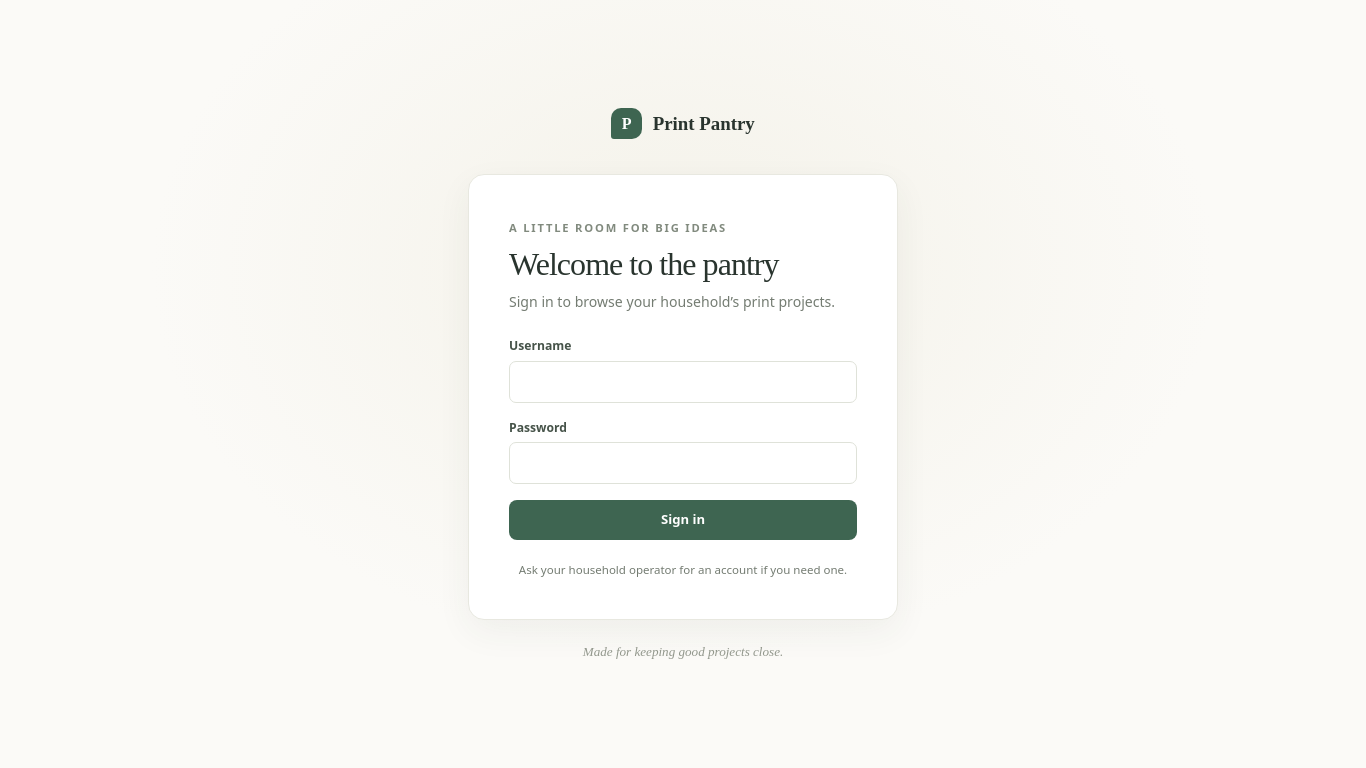
Test: offers library management to operators and routes there without loading the catalog
Check: the heading "Welcome to the pantry" is shown, box [509,246,779,282]
In the field labelled "Username": [683, 382] box [509,361,857,403], type "maker"
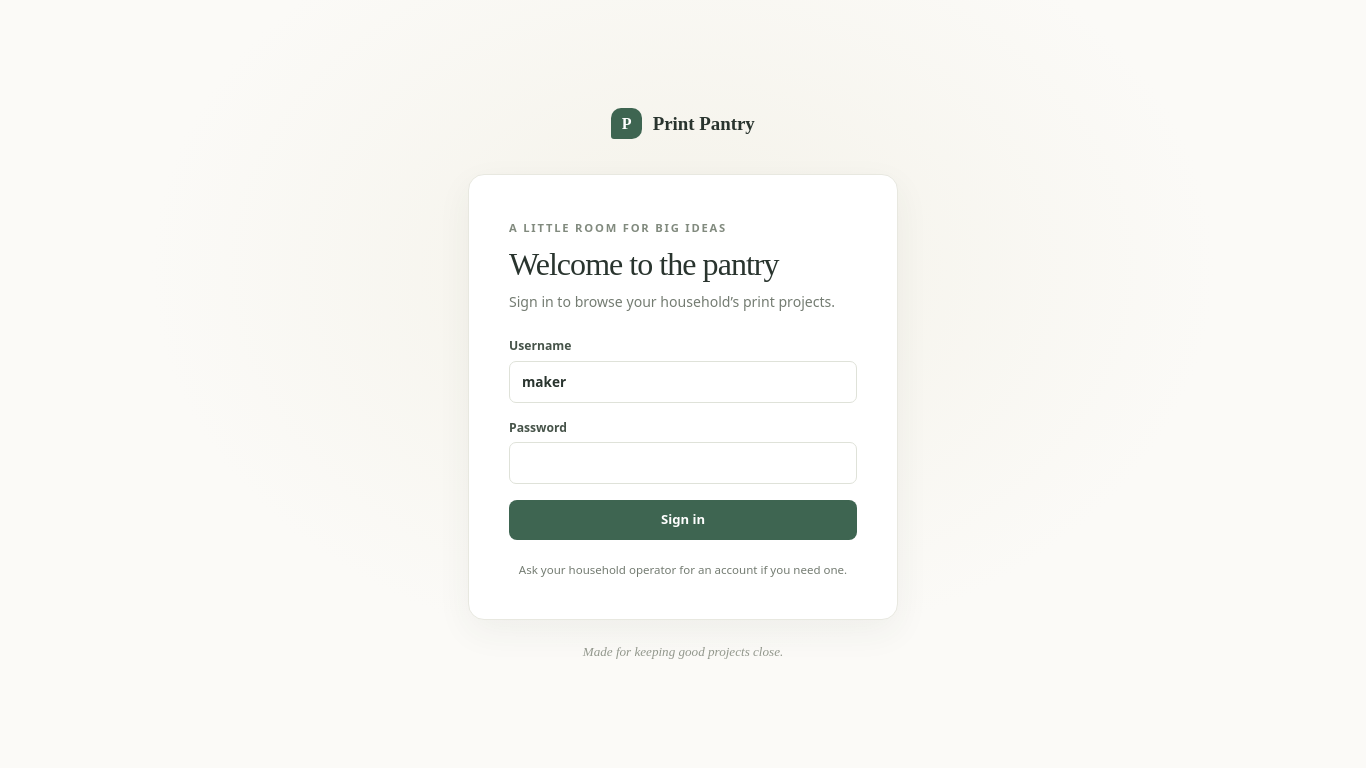
In the password field labelled "Password": [683, 463] box [509,442,857,484], type "pantry-pass"
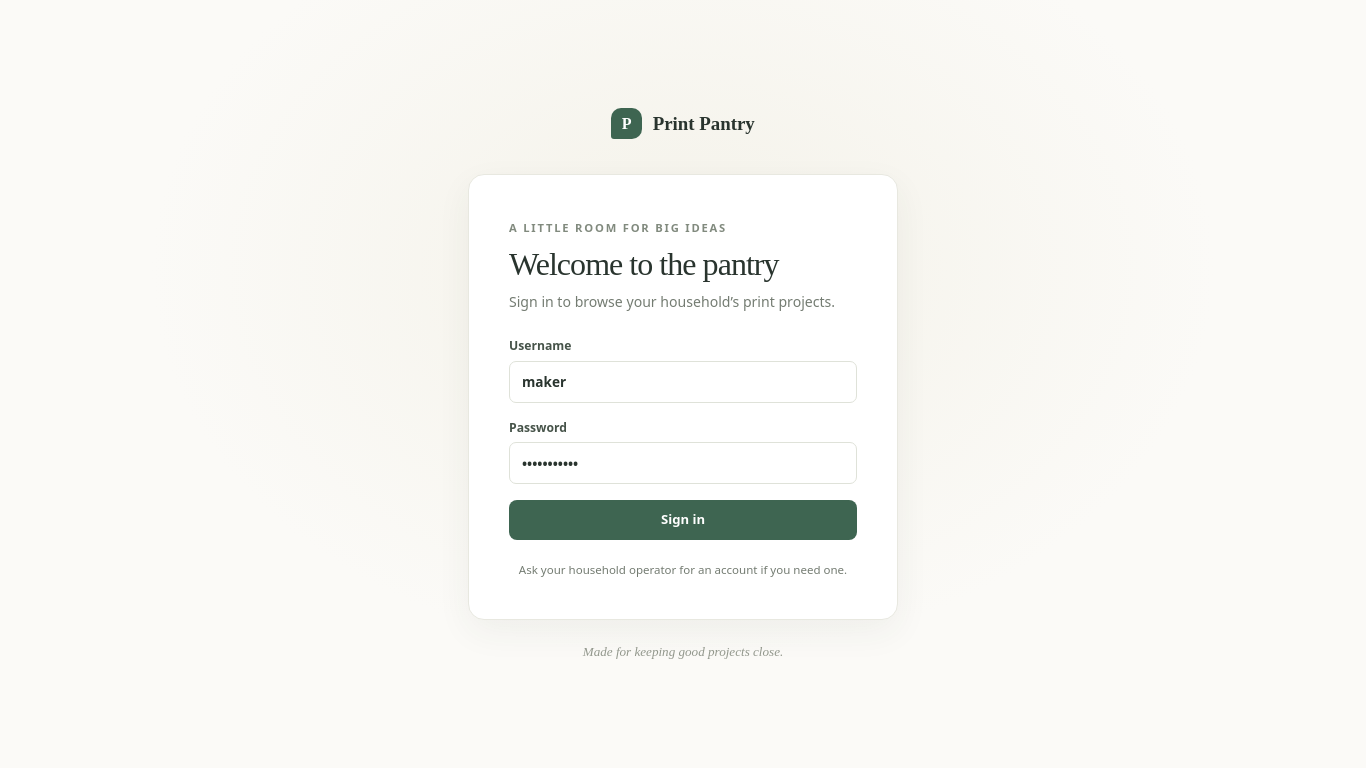
Click the button "Sign in": [683, 520] box [509,500,857,540]
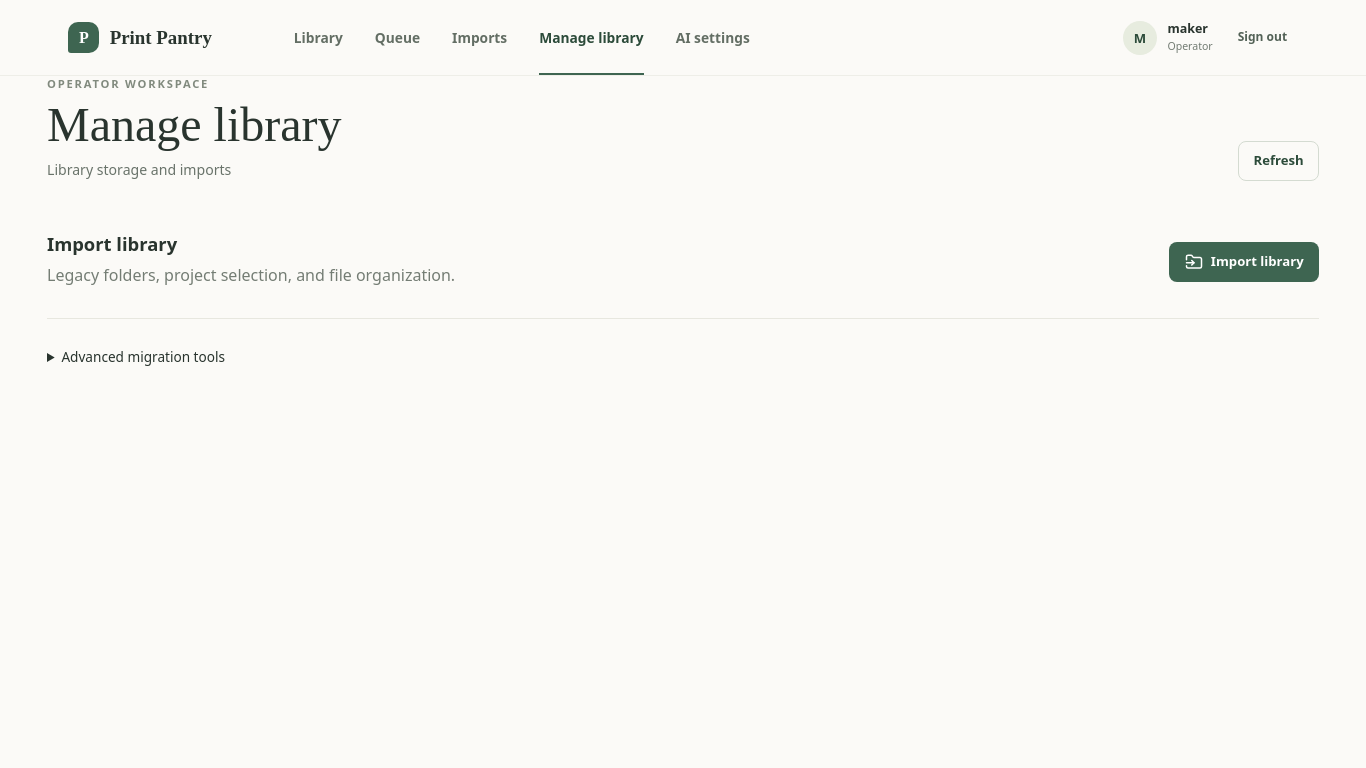
Check: the heading "Manage library" is shown, box [47,97,342,152]
